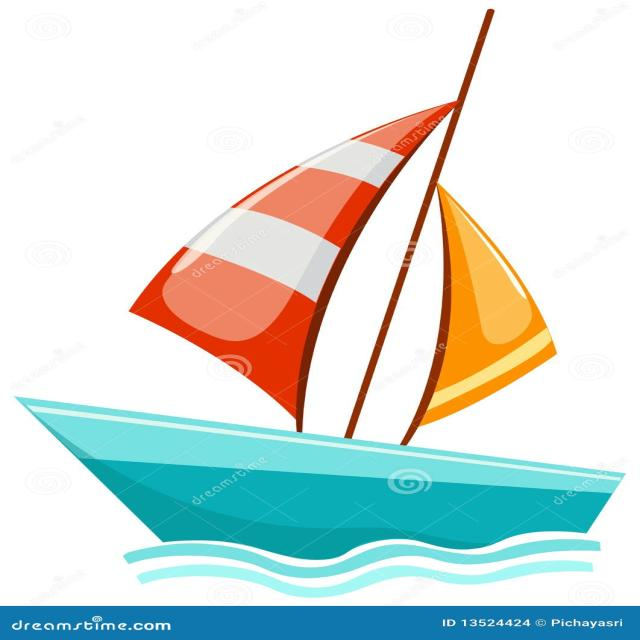boat: (15, 0, 626, 572)
